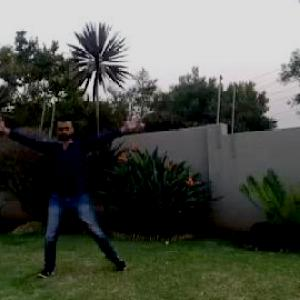takeoff: (1, 107, 148, 279)
